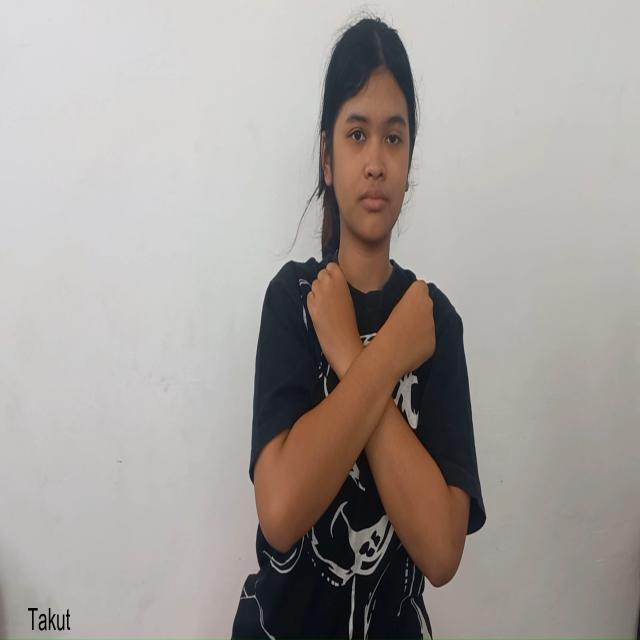Takut -BISINDO-: (278, 259, 452, 591)
